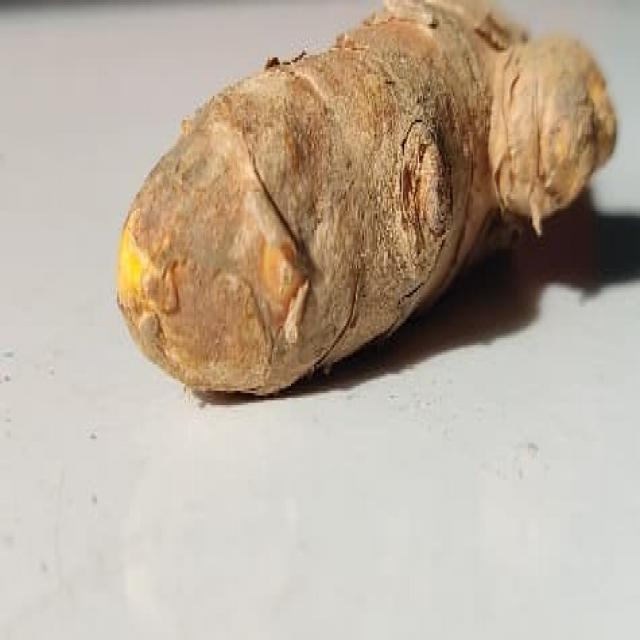ginger: (120, 3, 592, 394)
